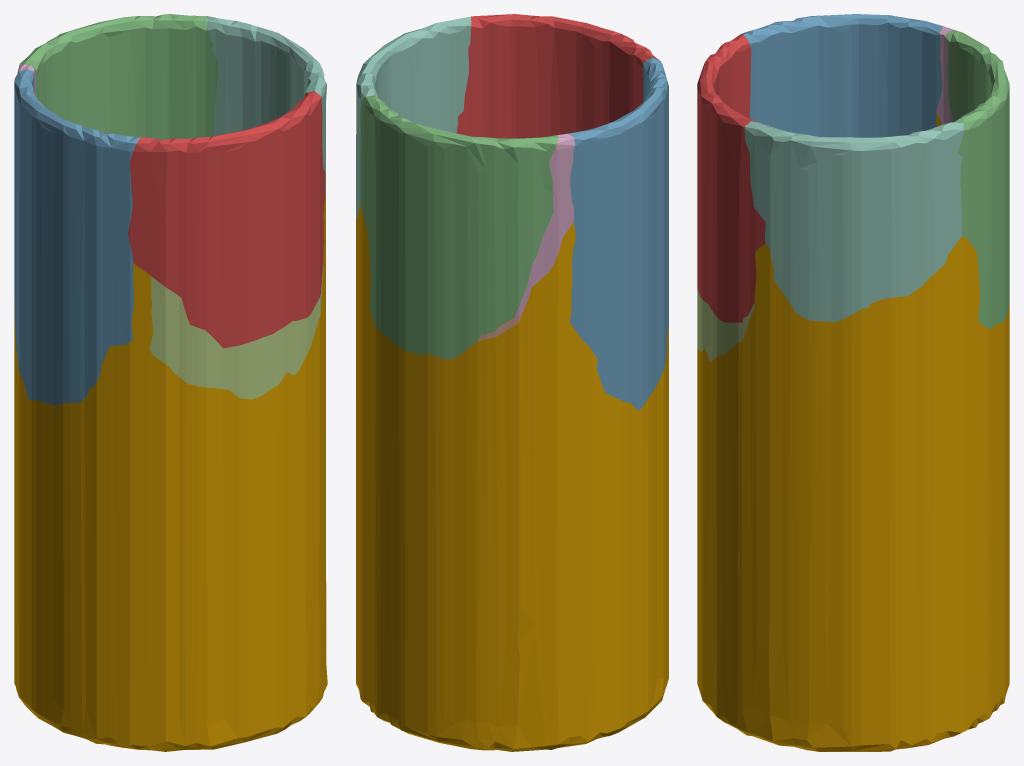
Rendered from mode_11_8pcs.glb.
The picture shows the model from 3 angles, left to right: view 1: azimuth 30°, elevation 25°; view 2: azimuth 150°, elevation 25°; view 3: azimuth 270°, elevation 25°; orthographic projection.
Parts seen in each view (by area): view 1: piece_0.obj, piece_1.obj, piece_2.obj, piece_3.obj, piece_4.obj, piece_5.obj; view 2: piece_0.obj, piece_3.obj, piece_2.obj, piece_1.obj, piece_4.obj, piece_6.obj; view 3: piece_0.obj, piece_4.obj, piece_2.obj, piece_1.obj, piece_3.obj, piece_5.obj, piece_6.obj.
Boxes of the visible parts, box(x1,y1,x2,y2) form: piece_0.obj: box(14, 195, 327, 751); piece_1.obj: box(128, 91, 325, 348); piece_2.obj: box(14, 69, 140, 405); piece_3.obj: box(19, 14, 218, 139); piece_4.obj: box(206, 16, 326, 194); piece_5.obj: box(149, 266, 323, 399); piece_0.obj: box(356, 205, 668, 751); piece_3.obj: box(360, 95, 558, 359); piece_2.obj: box(567, 57, 668, 410); piece_1.obj: box(456, 14, 658, 138); piece_4.obj: box(356, 16, 471, 218); piece_6.obj: box(515, 134, 574, 317); piece_0.obj: box(697, 114, 1009, 751); piece_4.obj: box(744, 121, 964, 321); piece_2.obj: box(740, 14, 942, 137); piece_1.obj: box(697, 34, 765, 322); piece_3.obj: box(946, 30, 1009, 328); piece_5.obj: box(697, 289, 754, 361); piece_6.obj: box(936, 26, 953, 124).
Size of the model in its own units: 0.4605 by 1 by 0.4605.
